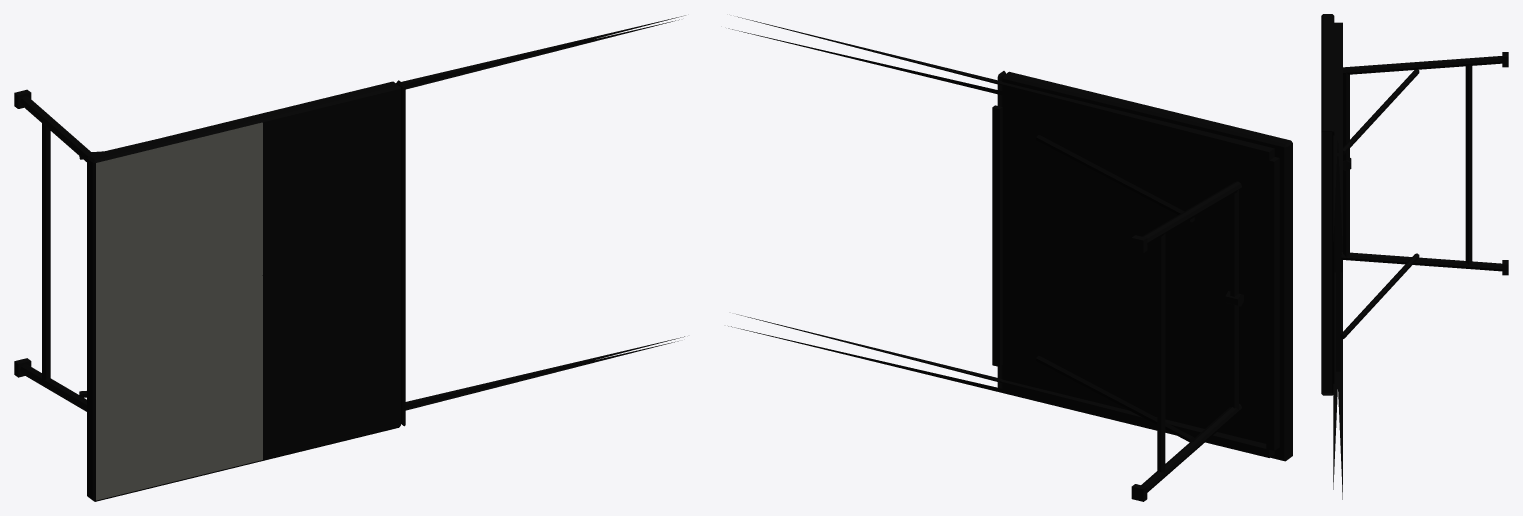
The picture shows the model from 3 angles, left to right: view 1: azimuth 30°, elevation 25°; view 2: azimuth 150°, elevation 25°; view 3: azimuth 270°, elevation 25°; orthographic projection. The views are drawn at different scales.
Size of the model in its own units: 1.69 by 0.91 by 0.583.
